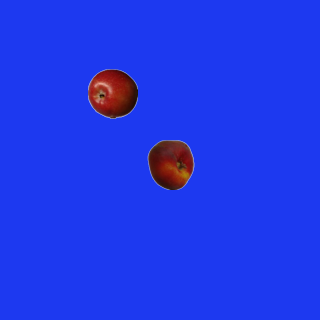Apple Braeburn: (87, 68, 137, 118)
Nectarine Flat: (145, 139, 195, 189)
